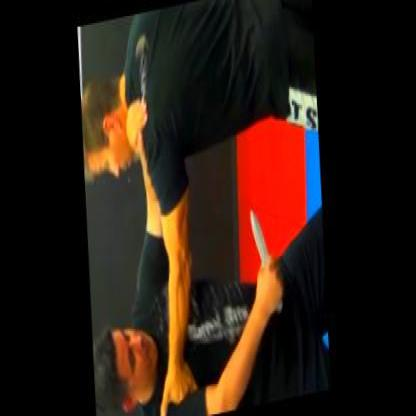knife: (244, 199, 288, 322)
